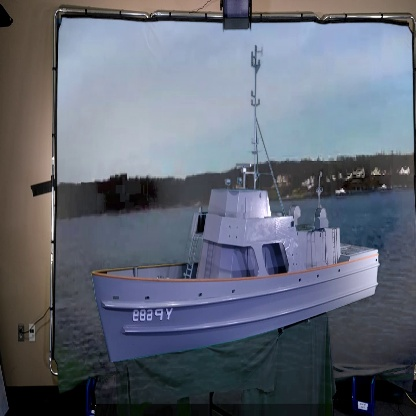YP689: (91, 40, 382, 365)
